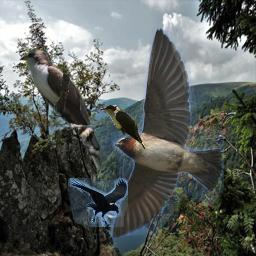Crow: (68, 178, 128, 227)
Cuckoo: (19, 49, 111, 170), (99, 105, 145, 151)
Swallow: (111, 27, 224, 239)
